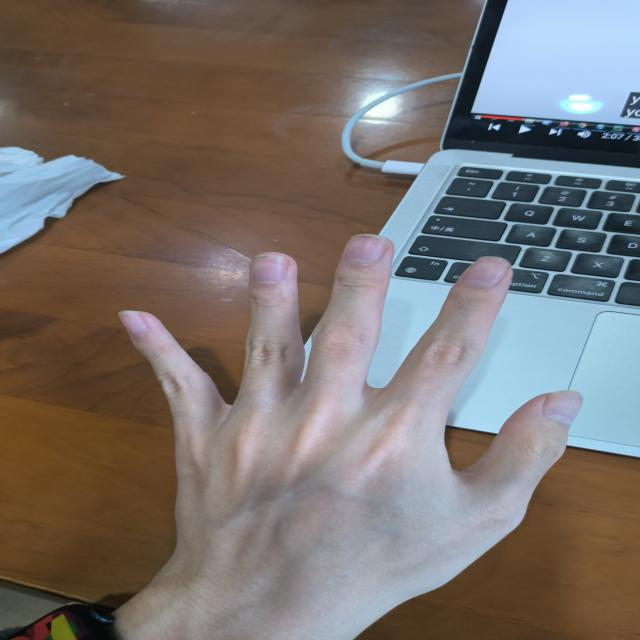Nail: (466, 256, 511, 286), (543, 391, 583, 423), (347, 234, 387, 263), (253, 256, 289, 285), (118, 311, 149, 337)
